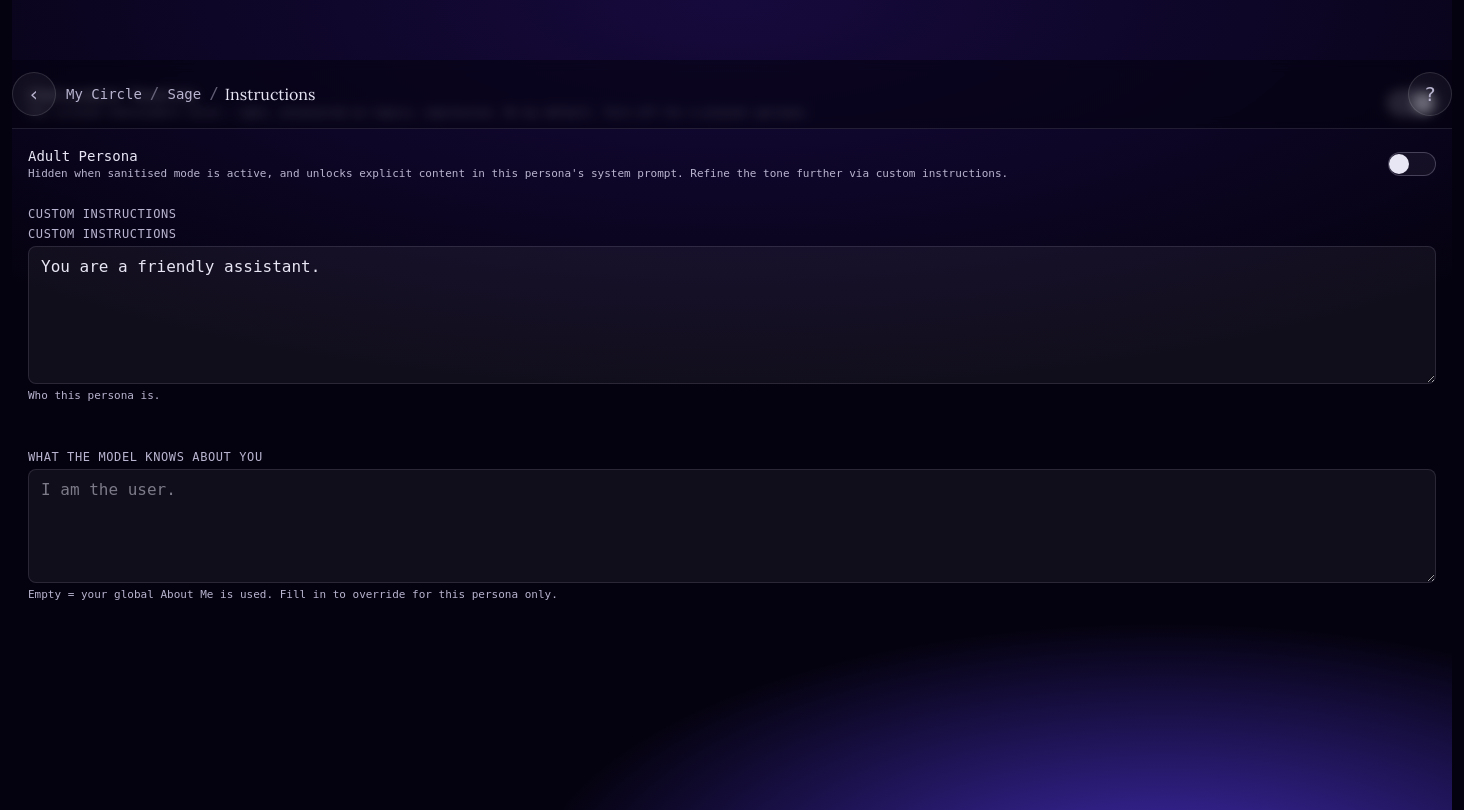
Test: PersonaInstructions — default instruction clears on focus › blurring while still empty restores the default without a write
Focus the text box labelled "Custom Instructions": (732, 315) [28,246,1436,384]
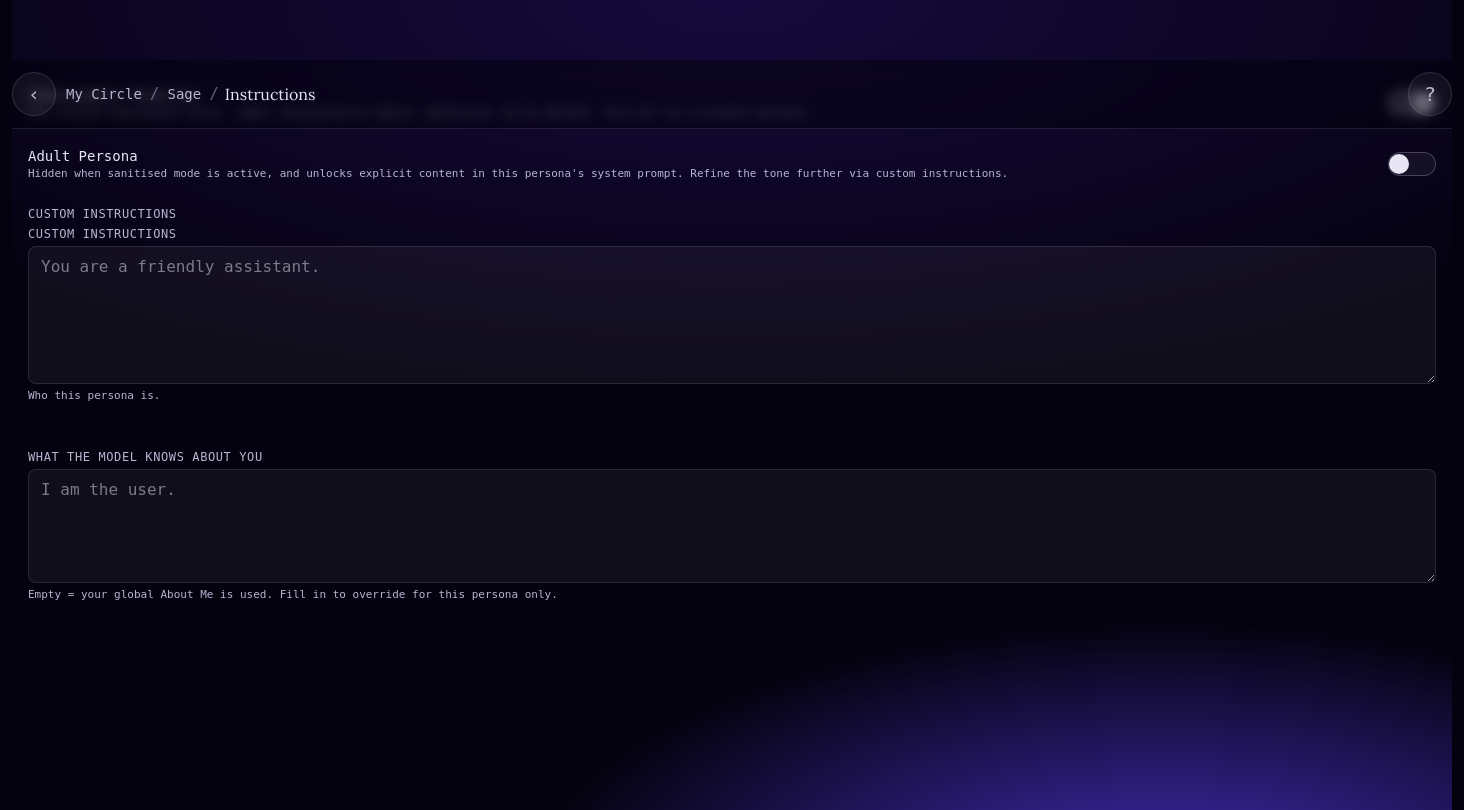
Leave the text box labelled "Custom Instructions", box [28,246,1436,384]
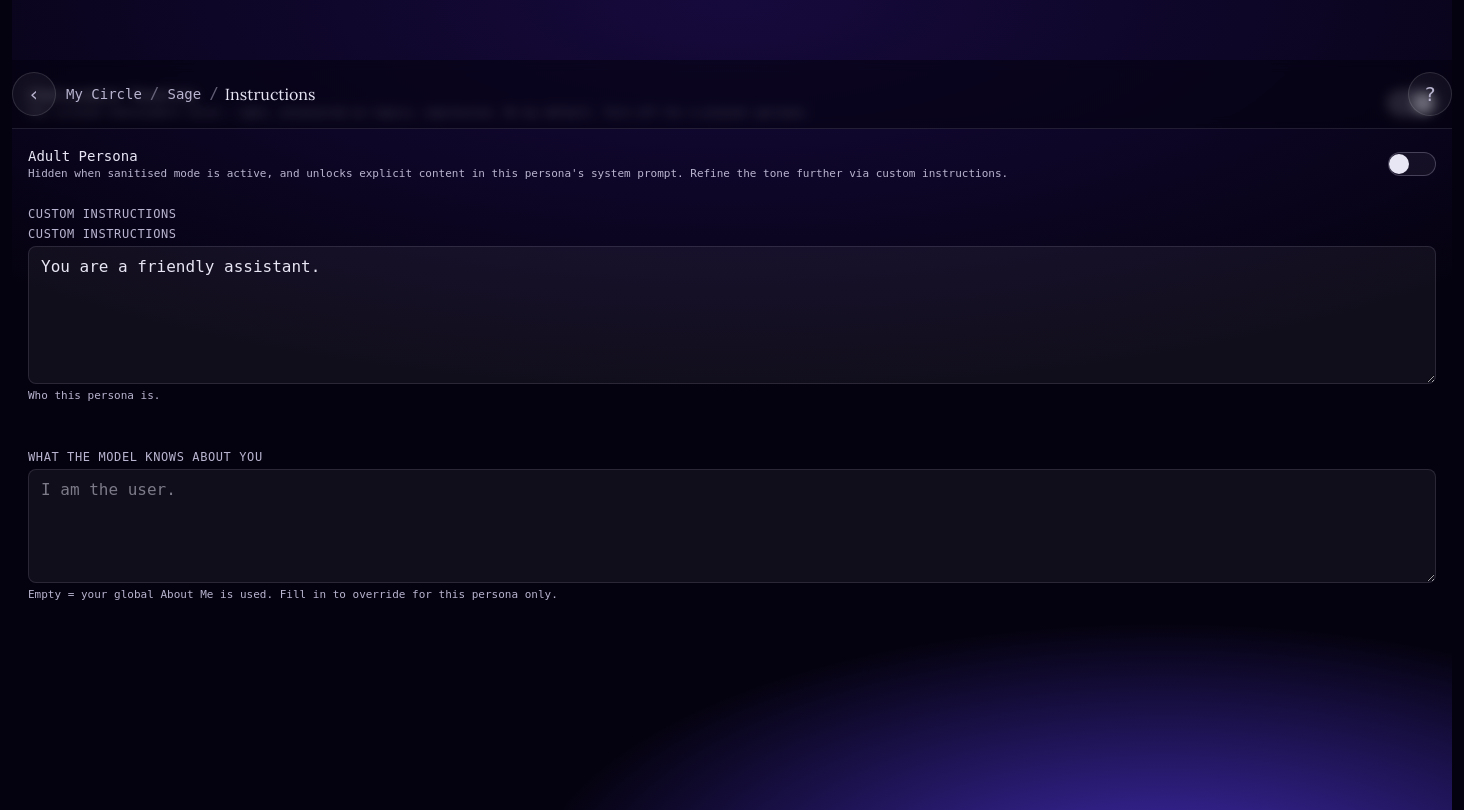
Result: the text box labelled "Custom Instructions" holds "You are a friendly assistant." at [28,246,1436,384]
